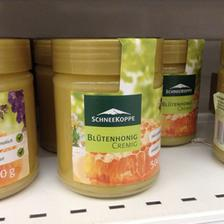Honig: (51, 34, 166, 198)
